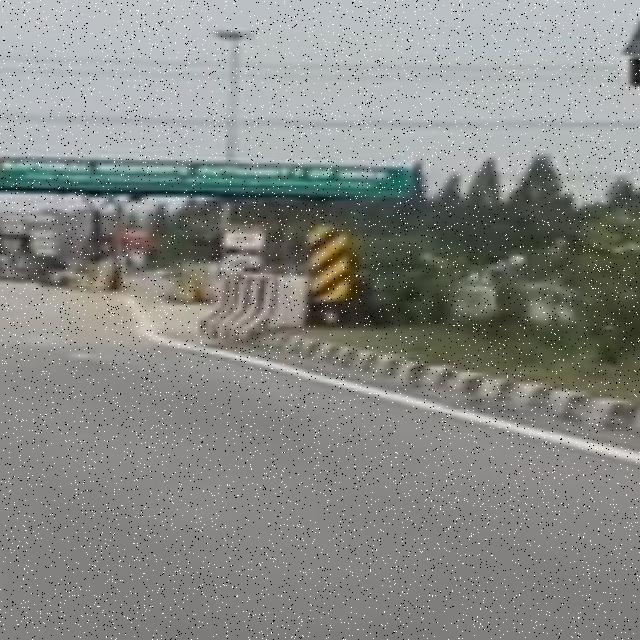gap_in_median: (296, 223, 374, 306)
